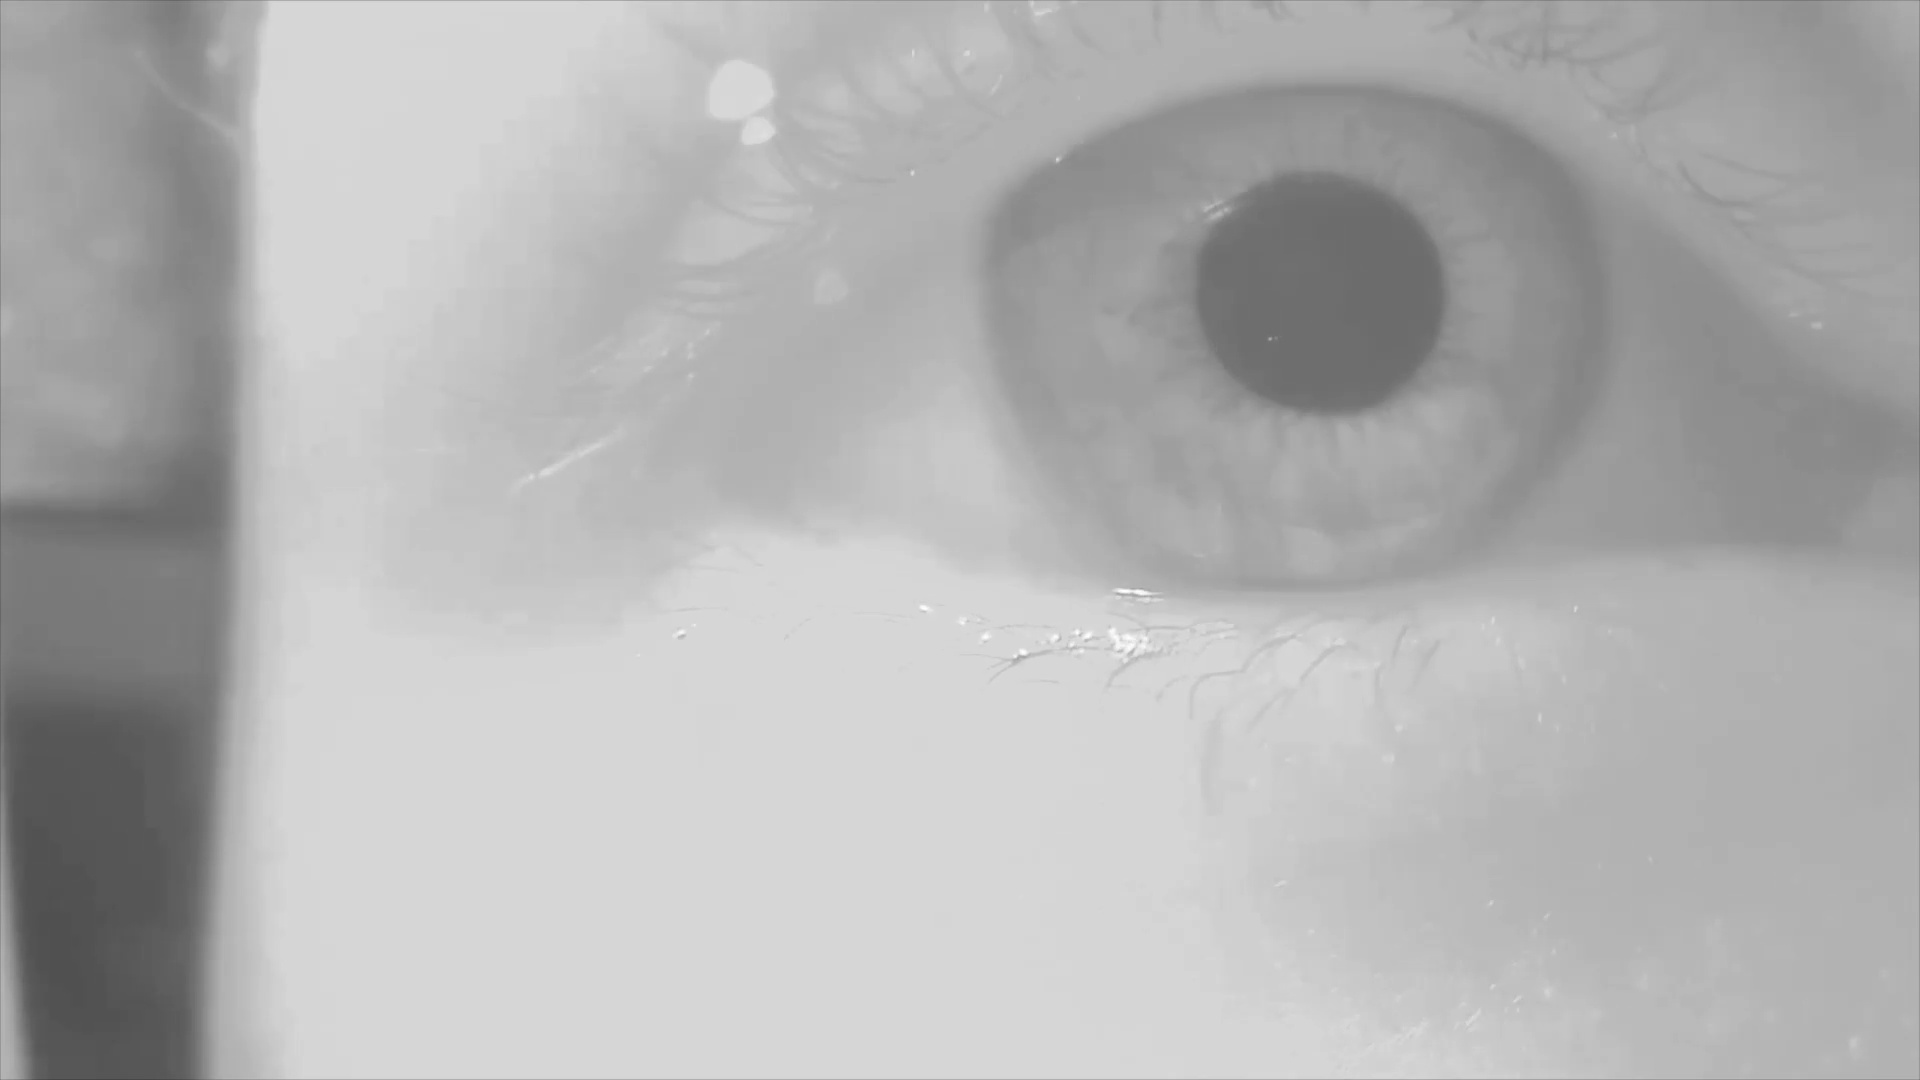pupil: (1201, 173, 1446, 414)
